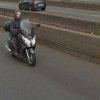Motorcycle: (2, 10, 49, 77)
